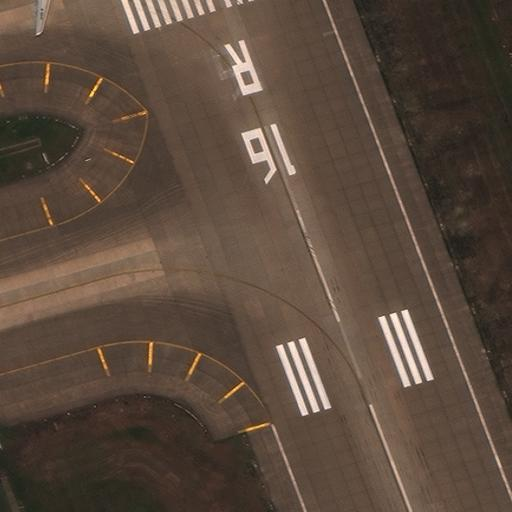Medium Civil Transport: (0, 0, 71, 33)
